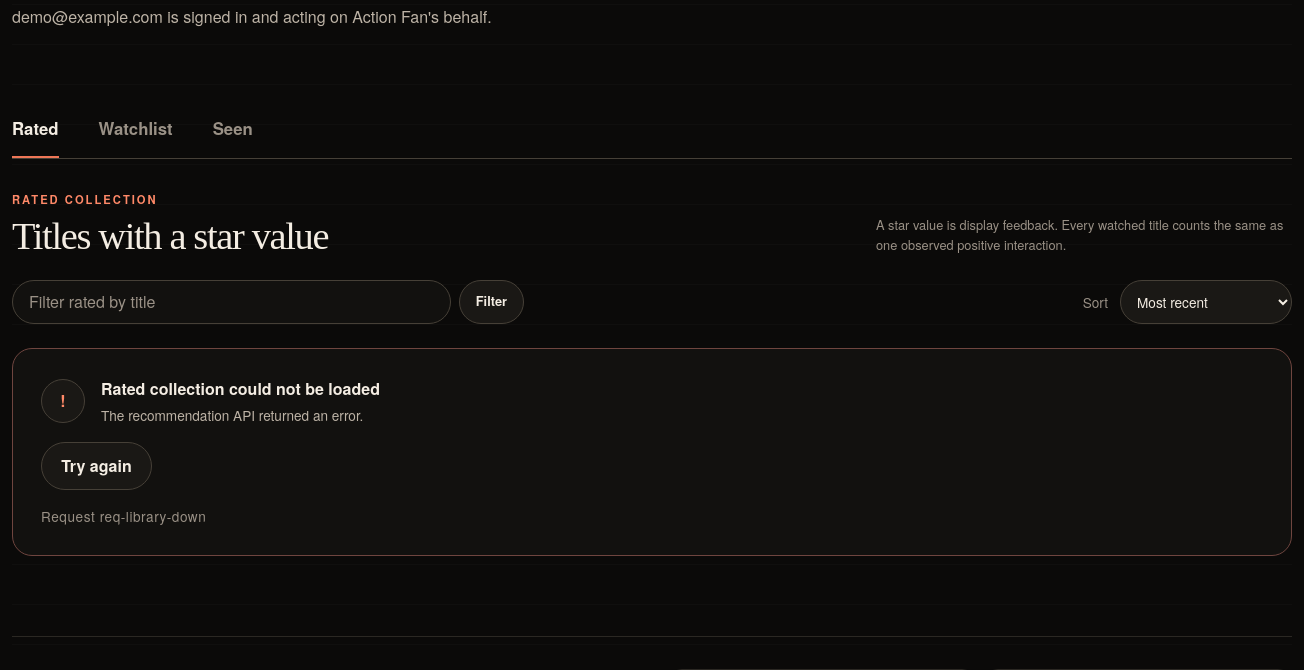
Scenario: each collection state stands on its own › keeps the other collections usable when one of them fails
Expected: the message "Rated collection could not be loaded" shows "The recommendation API returned an error.", x1=101 y1=405 x2=363 y2=425
Expected: the message "Rated collection could not be loaded" shows "req-library-down", x1=100 y1=506 x2=206 y2=526
// No collection has answered, so no tab can show a count yet.
Click the tab "Watchlist": point(136, 130) x1=98 y1=102 x2=173 y2=158
(page scrolled)
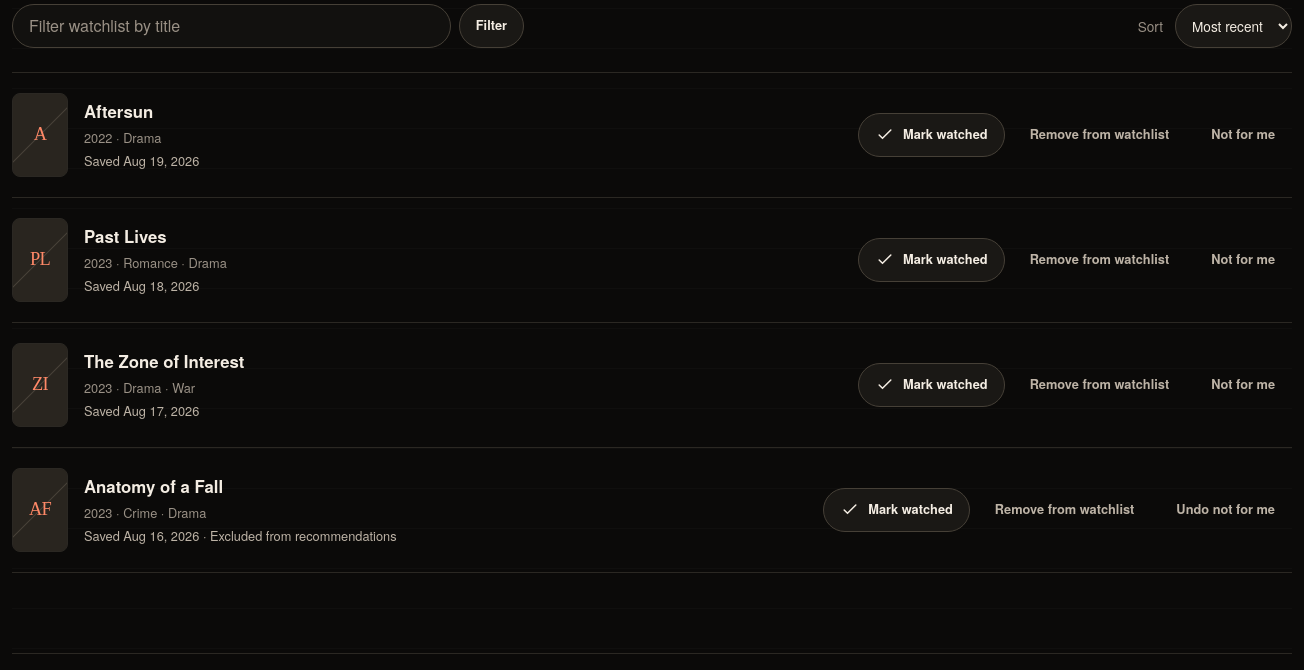
Now the list named "Watchlist movies" is shown
Now the message is gone
